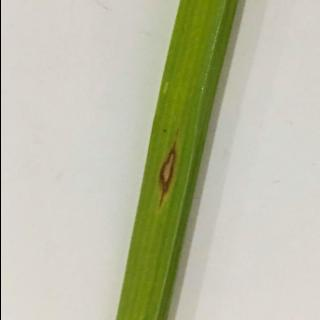Blast: (137, 133, 196, 218)
